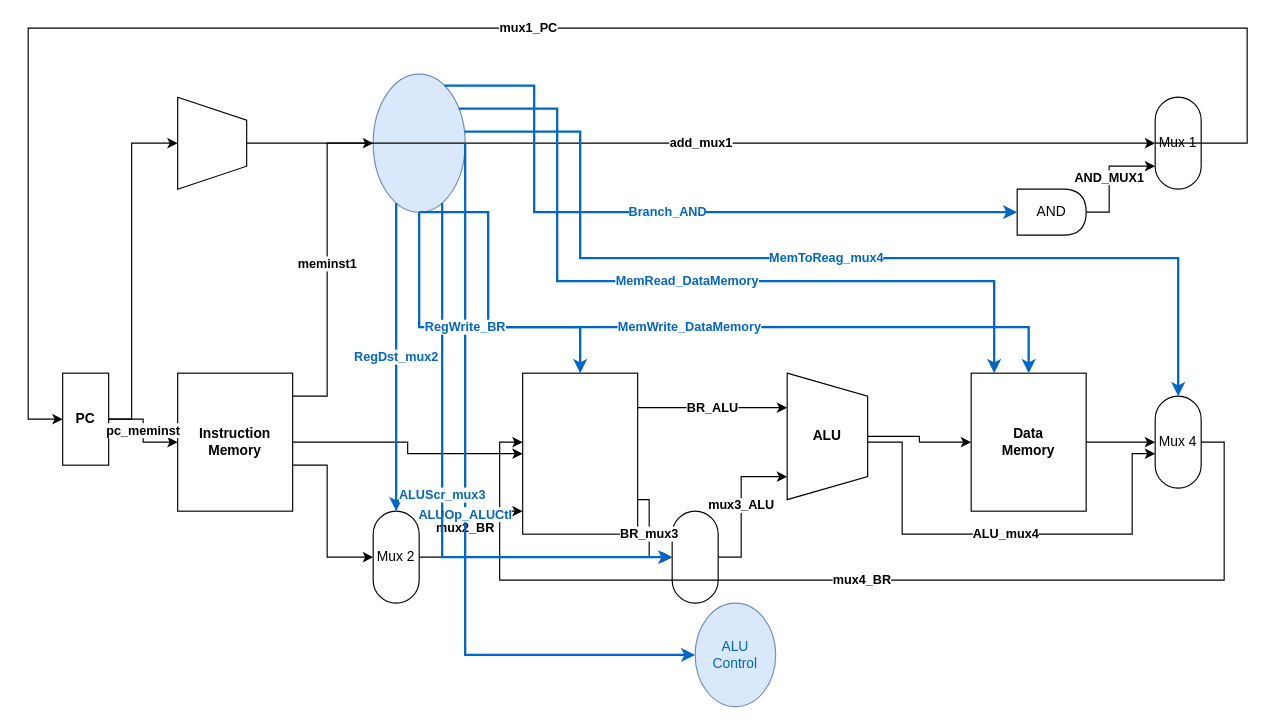
The diagram is 1277 pixels wide and 727 high, and some of its shapes have lost their labels. The centre of each missing label's shape, as x and y in pixels:
Add (PC+4): (x=212, y=142)
Control: (x=418, y=142)
Mux 3: (x=694, y=556)
Registers: (x=580, y=453)
